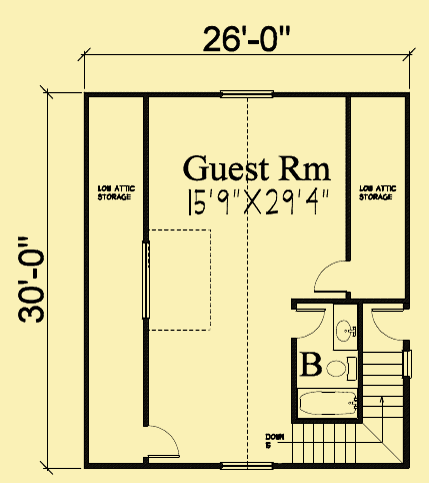door: (139, 419, 184, 463), (366, 304, 412, 347), (311, 256, 352, 297), (287, 302, 328, 341)
large sink: (324, 355, 358, 385)
small sink: (331, 302, 360, 351)
stairs: (263, 418, 414, 471), (361, 350, 414, 468)
tub: (292, 385, 364, 425)
windows: (138, 237, 154, 324), (217, 84, 276, 102), (217, 459, 276, 476)
